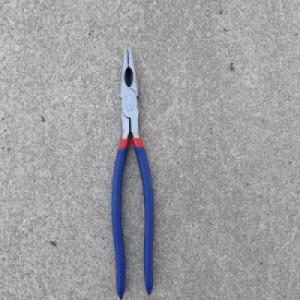Pliers: (109, 42, 155, 300)
